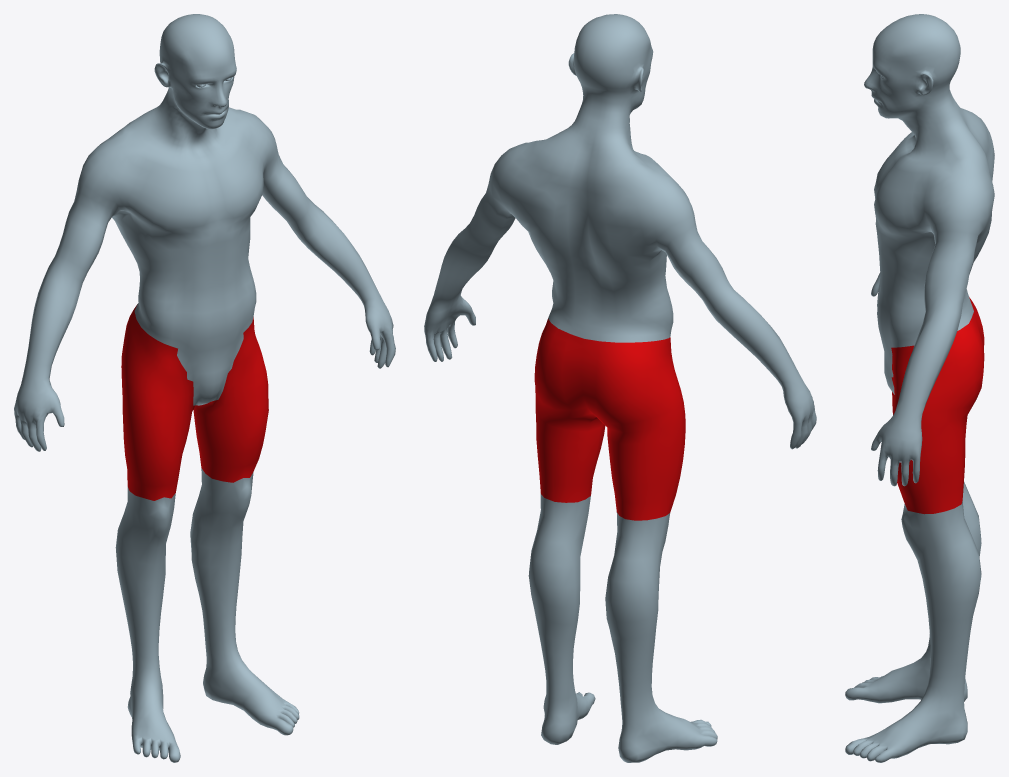
Rendered from human_muscle_squat.glb.
3 views of the same model, side by side, from view 1: azimuth 30°, elevation 25°; view 2: azimuth 150°, elevation 25°; view 3: azimuth 270°, elevation 25° (orthographic). The views are drawn at different scales.
Visible parts, largest first — view 1: Object_2; view 2: Object_2; view 3: Object_2.
Boxes of the visible parts, left/top/right/bottom form: Object_2: left=14, top=14, right=395, bottom=762; Object_2: left=424, top=14, right=816, bottom=762; Object_2: left=845, top=14, right=994, bottom=762.
Bounding box in the file's own units: 1.08 × 1.96 × 0.3749.
